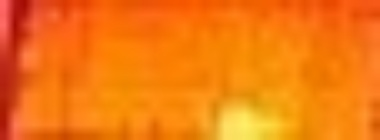Hotspot: (209, 97, 299, 140)
